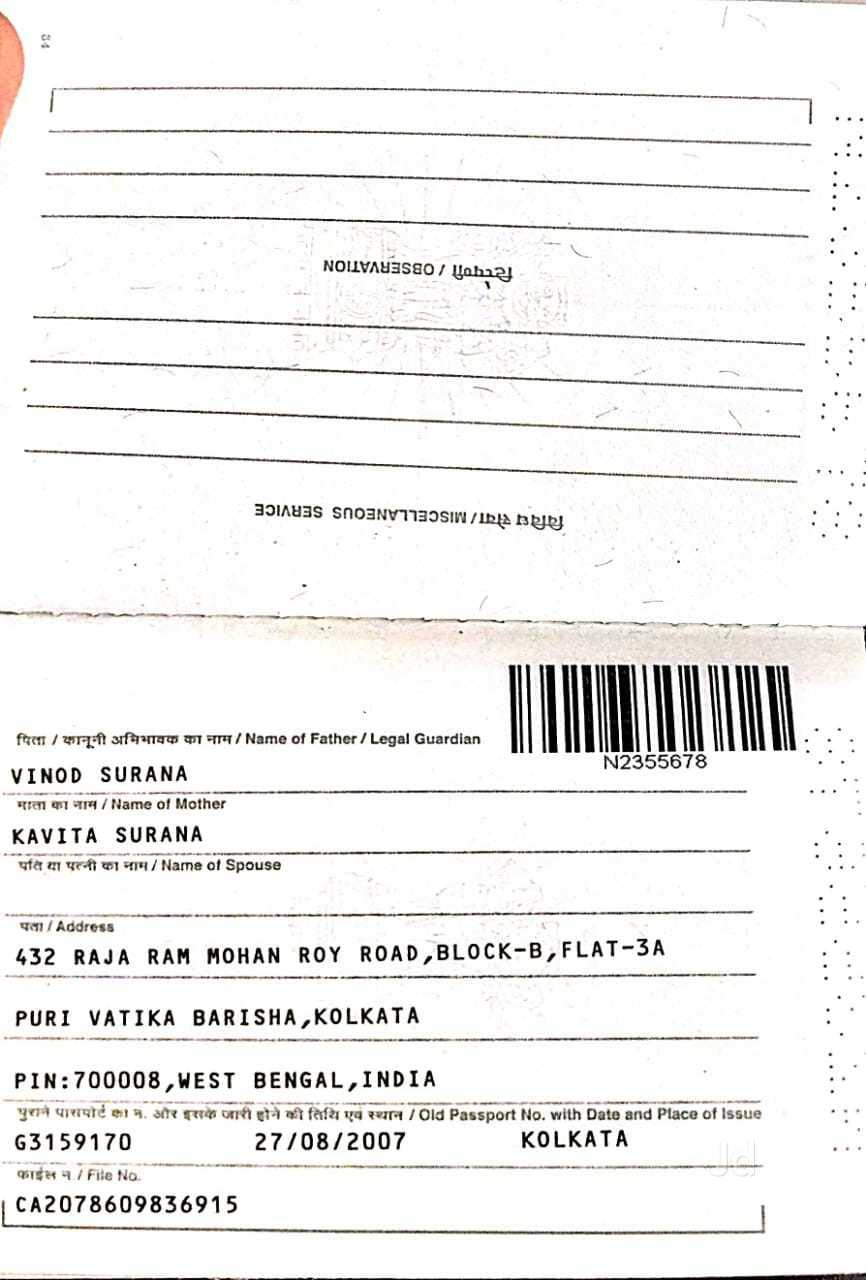File_no: (12, 1187, 242, 1225)
address: (0, 933, 690, 1093)
father_name: (3, 752, 208, 795)
mother_name: (3, 813, 231, 859)
old_passport_details: (10, 1120, 640, 1167)
passport_no: (591, 747, 712, 773)
